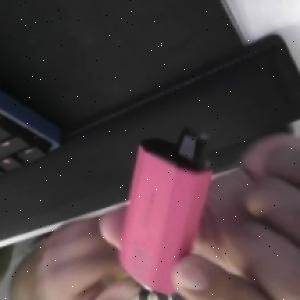Blume-E-Ciggirate: (114, 124, 215, 297)
